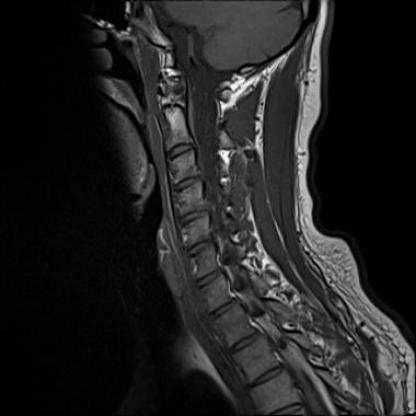Degenerative Disc Diseaserotation: (185, 241, 215, 255)
Disc Bulgerotation: (185, 241, 215, 255)
